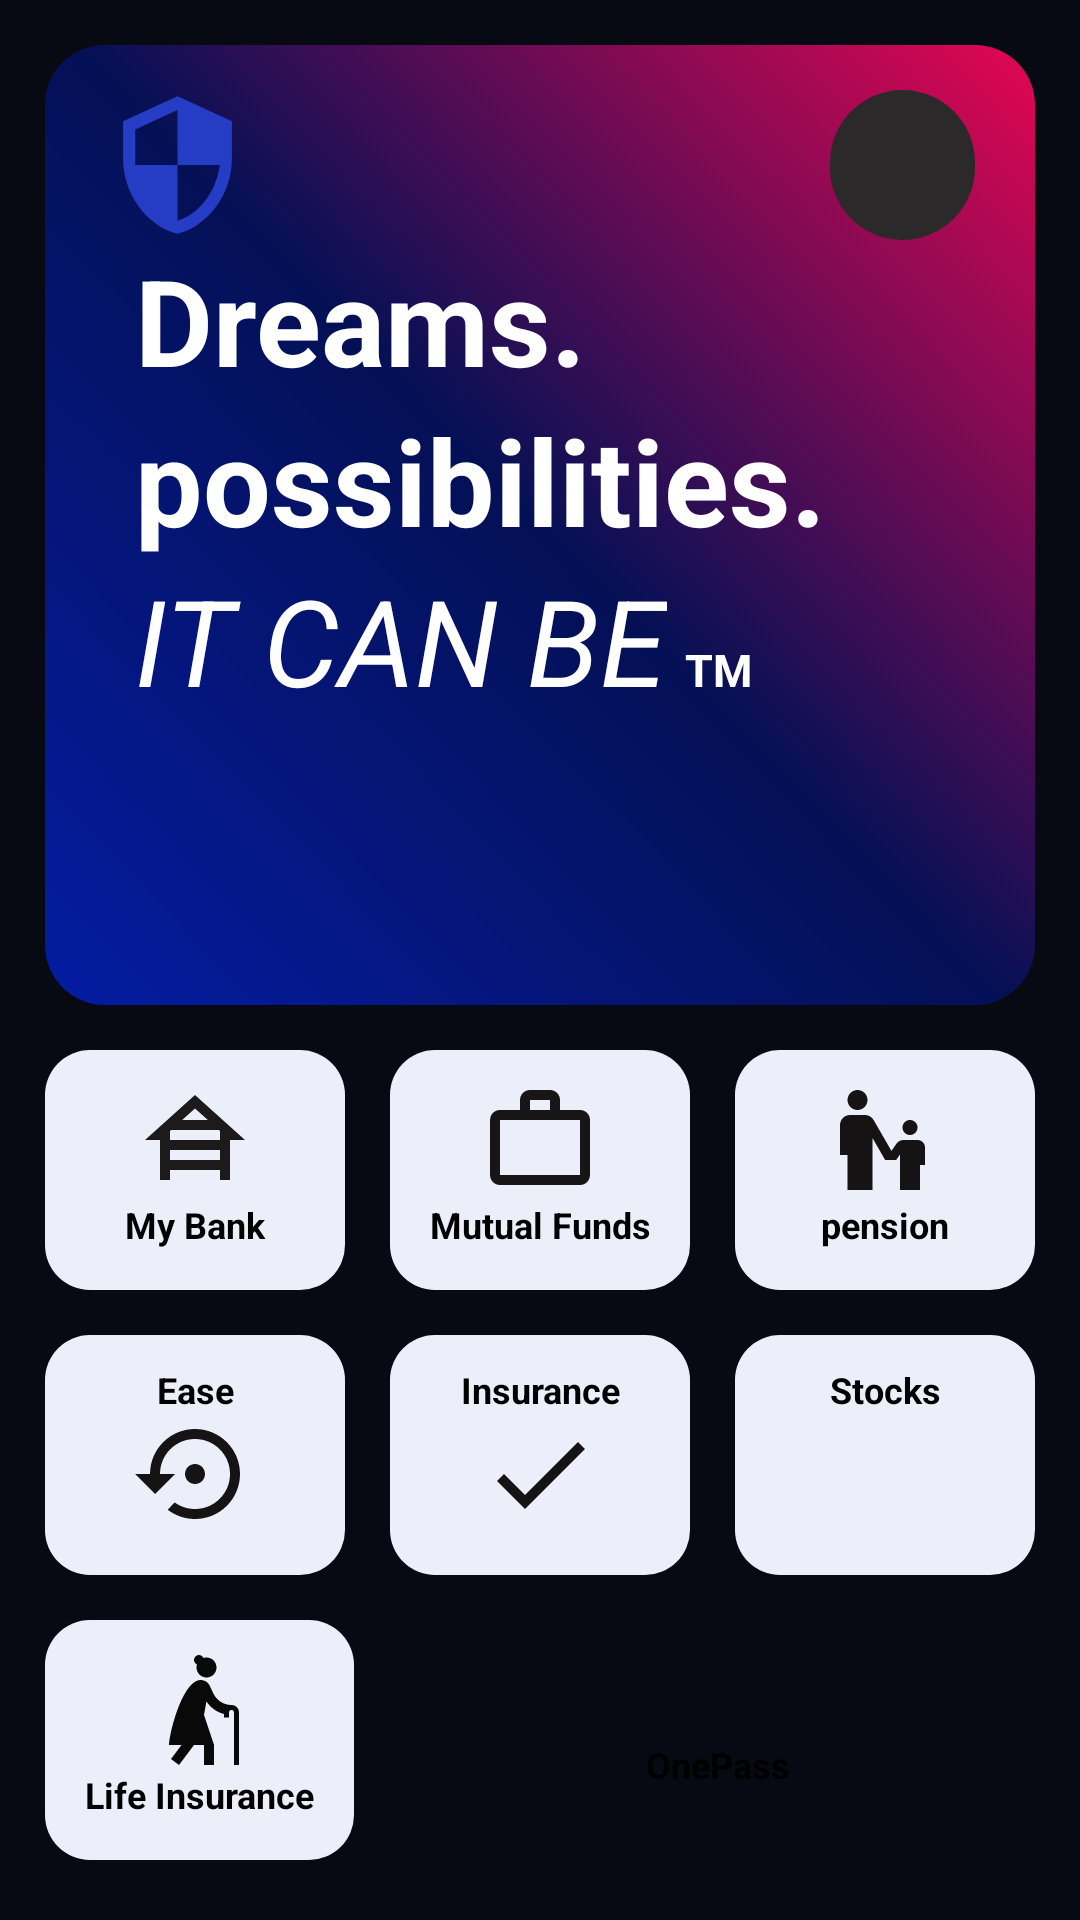

Where icons sit on this 1080px x 1920px app screen, as (x1, y1, x2, y2):
done: (497, 1442, 585, 1509)
elderly woman: (169, 1655, 239, 1765)
escalator warning: (840, 1090, 925, 1190)
house siding: (145, 1095, 245, 1180)
security: (123, 96, 232, 234)
settings backup restore: (135, 1429, 240, 1519)
work: (490, 1090, 590, 1185)
